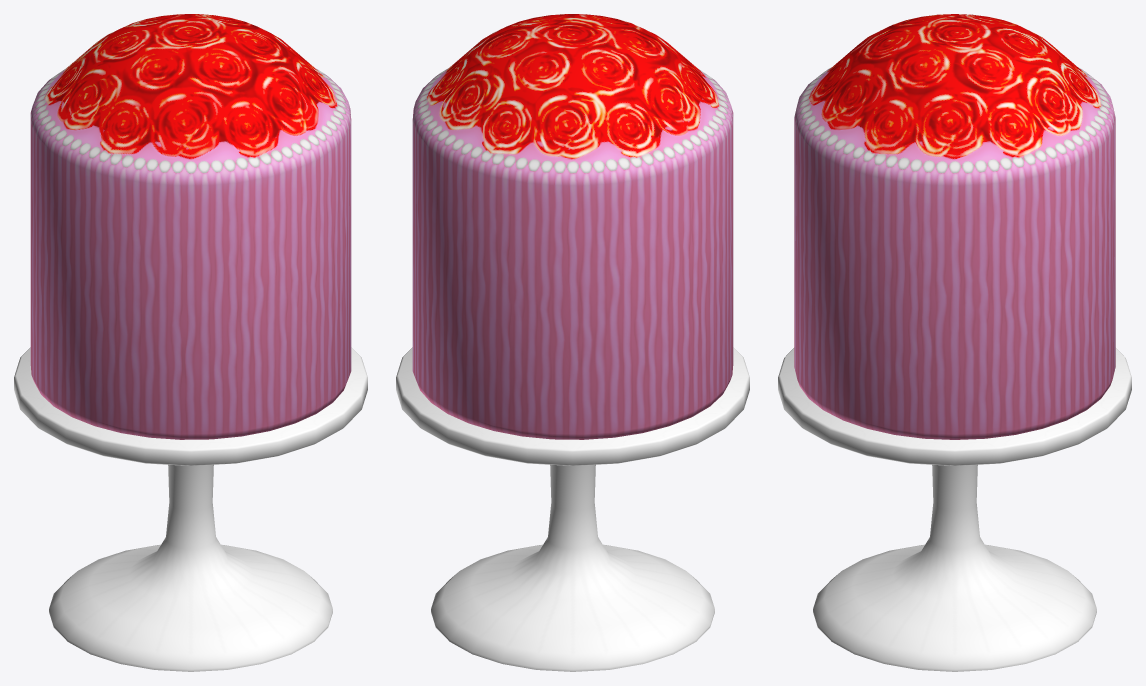
The model's file is BuffetCakes01_1.FBX.
The picture shows the model from 3 angles, left to right: view 1: azimuth 30°, elevation 25°; view 2: azimuth 150°, elevation 25°; view 3: azimuth 270°, elevation 25°; orthographic projection.
Visible parts, largest first — view 1: BuffetCakes01_1; view 2: BuffetCakes01_1; view 3: BuffetCakes01_1.
Part boxes in pixels (left/top/right/bottom): BuffetCakes01_1: left=14, top=14, right=367, bottom=671; BuffetCakes01_1: left=396, top=14, right=749, bottom=671; BuffetCakes01_1: left=778, top=14, right=1131, bottom=671.
Size of what is drawn, in the model's own units: 0.3515 by 0.6343 by 0.3515.
